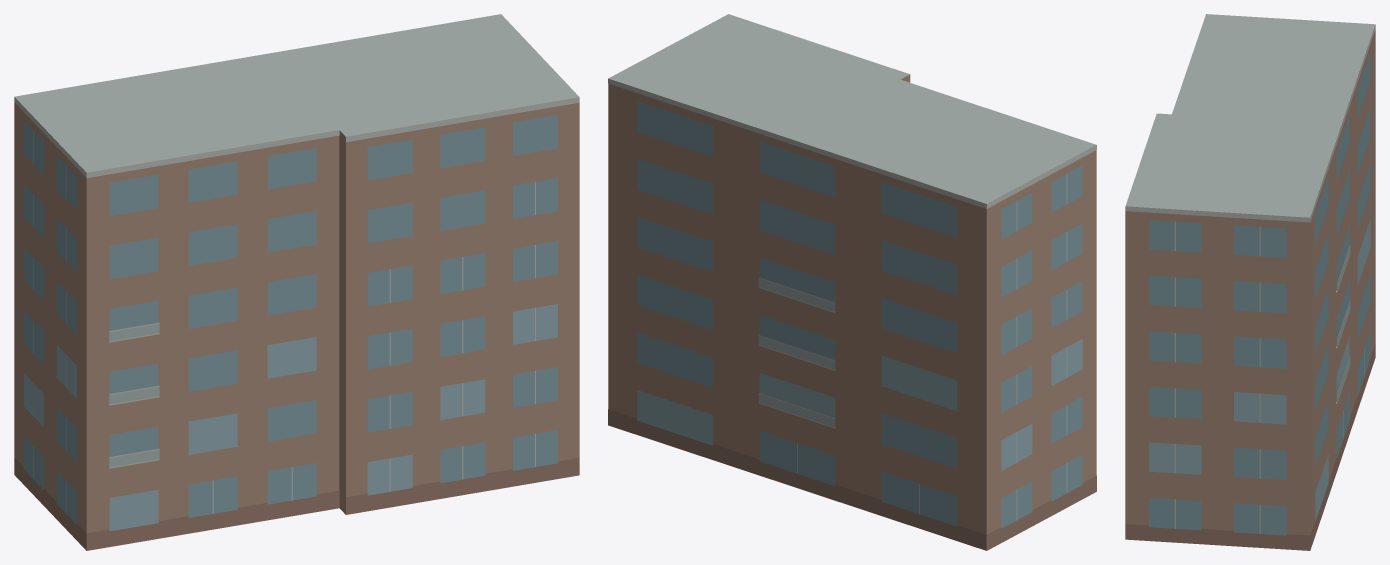
File: survey-upis-32934551.glb
3 renders of one model, left to right at view 1: azimuth 30°, elevation 25°; view 2: azimuth 150°, elevation 25°; view 3: azimuth 270°, elevation 25°, orthographic. The views are drawn at different scales.
Parts seen in each view (by area): view 1: survey-upis-32934551.tmp; view 2: survey-upis-32934551.tmp; view 3: survey-upis-32934551.tmp.
Boxes of the visible parts, bbox=[...] form: survey-upis-32934551.tmp: bbox=[14, 14, 579, 550]; survey-upis-32934551.tmp: bbox=[608, 14, 1096, 550]; survey-upis-32934551.tmp: bbox=[1125, 14, 1375, 550].
Bounding box in the file's own units: 22.29 × 17 × 11.58.
